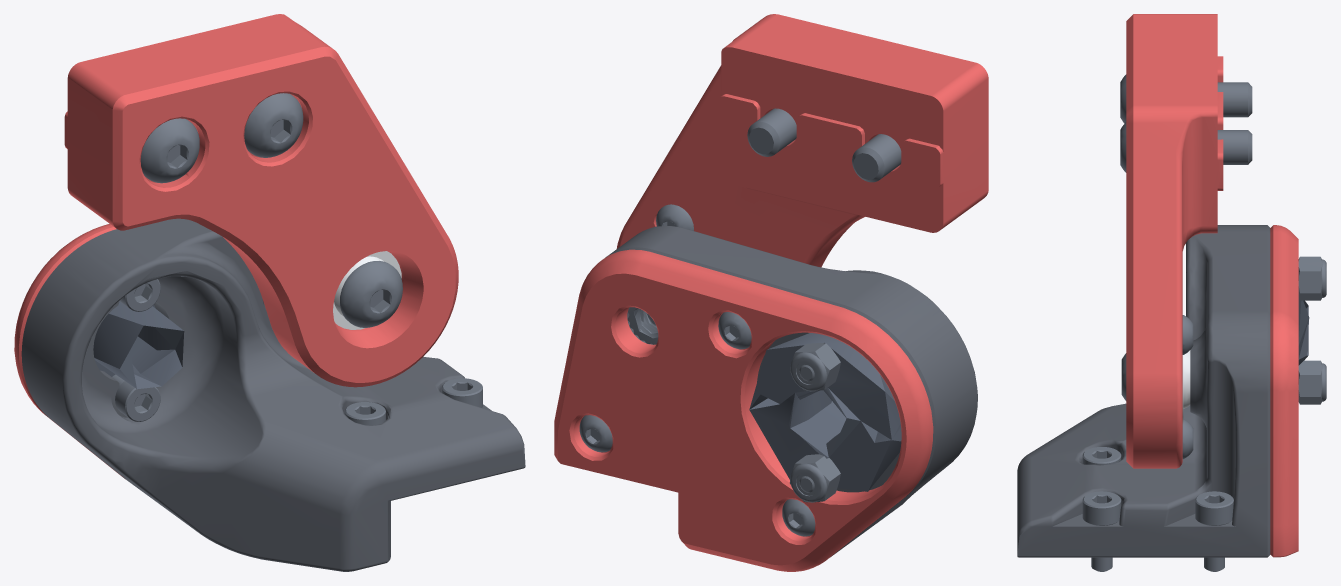
3 renders of one model, left to right at view 1: azimuth 30°, elevation 25°; view 2: azimuth 150°, elevation 25°; view 3: azimuth 270°, elevation 25°, orthographic. The views are drawn at different scales.
Parts seen in each view (by area): view 1: z_carriage_right, z_bed_right, leadscrew_nut_v1, m5x16_bhcs__4_, m5x16_bhcs__4__16, m5x16_bhcs__4__17, [a]_z_carriage_right, m3x12_shcs__1___1__14, m3x8_shcs__1___1__1, m3x12_shcs__1___1_, m3x8_shcs__1___1__6; view 2: [a]_z_carriage_right, z_bed_right, z_carriage_right, leadscrew_nut_v1, m5x16_bhcs__4__17, m5x16_bhcs__4__16, m3_locknut__2_, m3_locknut__2__12, m3x6_bhcs__4__10, m3x6_bhcs__4__11, m3x6_bhcs__4_, m5_heat_set__1_ (+1 smaller); view 3: z_carriage_right, z_bed_right, [a]_z_carriage_right, m3x8_shcs__1___1__1, m3x8_shcs__1___1_, m5x16_bhcs__4__17, m5x16_bhcs__4__16, m3_locknut__2_, m3_locknut__2__12, leadscrew_nut_v1, m3x8_shcs__1___1__6, ge5c_v1_v1 (+2 smaller).
Boxes of the visible parts, <box> form: z_carriage_right: <box>21,218,525,571</box>; z_bed_right: <box>64,14,458,387</box>; leadscrew_nut_v1: <box>93,301,184,389</box>; m5x16_bhcs__4_: <box>340,261,402,327</box>; m5x16_bhcs__4__16: <box>244,93,303,157</box>; m5x16_bhcs__4__17: <box>140,118,199,183</box>; [a]_z_carriage_right: <box>14,224,124,478</box>; m3x12_shcs__1___1__14: <box>112,374,160,421</box>; m3x8_shcs__1___1__1: <box>442,378,482,407</box>; m3x12_shcs__1___1_: <box>119,279,160,311</box>; m3x8_shcs__1___1__6: <box>344,402,385,425</box>; [a]_z_carriage_right: <box>554,249,933,571</box>; z_bed_right: <box>616,14,988,267</box>; z_carriage_right: <box>605,226,977,557</box>; leadscrew_nut_v1: <box>749,333,901,491</box>; m5x16_bhcs__4__17: <box>852,134,901,182</box>; m5x16_bhcs__4__16: <box>747,108,796,156</box>; m3_locknut__2_: <box>789,343,840,391</box>; m3_locknut__2__12: <box>789,454,840,502</box>; m3x6_bhcs__4__10: <box>718,312,751,349</box>; m3x6_bhcs__4__11: <box>579,415,612,452</box>; m3x6_bhcs__4_: <box>782,499,815,536</box>; m5_heat_set__1_: <box>627,307,658,344</box>; z_carriage_right: <box>1017,225,1270,557</box>; z_bed_right: <box>1126,14,1223,468</box>; [a]_z_carriage_right: <box>1270,225,1298,557</box>; m3x8_shcs__1___1__1: <box>1082,491,1121,571</box>; m3x8_shcs__1___1_: <box>1195,491,1233,571</box>; m5x16_bhcs__4__17: <box>1120,74,1252,123</box>; m5x16_bhcs__4__16: <box>1120,122,1252,172</box>; m3_locknut__2_: <box>1298,256,1326,300</box>; m3_locknut__2__12: <box>1298,360,1326,404</box>; leadscrew_nut_v1: <box>1298,294,1309,365</box>; m3x8_shcs__1___1__6: <box>1082,447,1121,465</box>; ge5c_v1_v1: <box>1183,350,1190,408</box>.
Size of the model in its own units: 0.0573 by 0.07 by 0.044.
